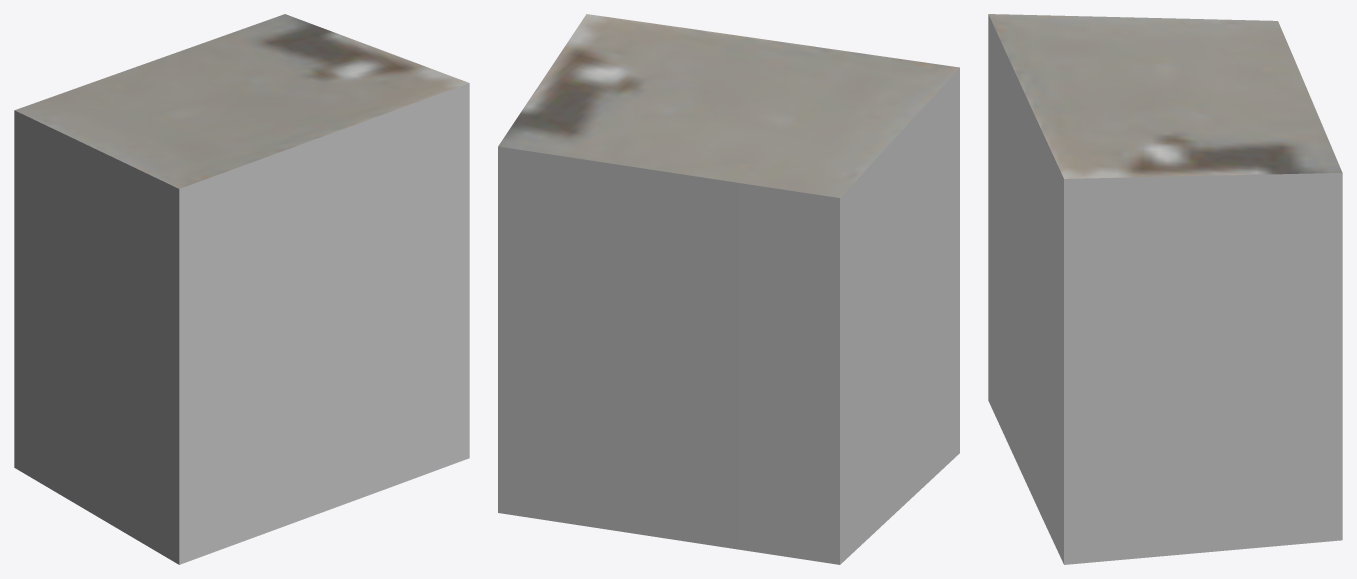
Rendered from DEBW_0010007Tx3e.gltf.
3 views of the same model, side by side, from view 1: azimuth 30°, elevation 25°; view 2: azimuth 150°, elevation 25°; view 3: azimuth 270°, elevation 25° (orthographic). The views are drawn at different scales.
Parts seen in each view (by area): view 1: Z_UP; view 2: Z_UP; view 3: Z_UP.
Part boxes in pixels (box(x1,y1,x2,y2)): Z_UP: box(14, 14, 469, 564); Z_UP: box(498, 14, 959, 564); Z_UP: box(988, 14, 1342, 564).
Bounding box in the file's own units: 10.08 × 10.32 × 8.56.
Materials: 2 (1 with a texture image).
